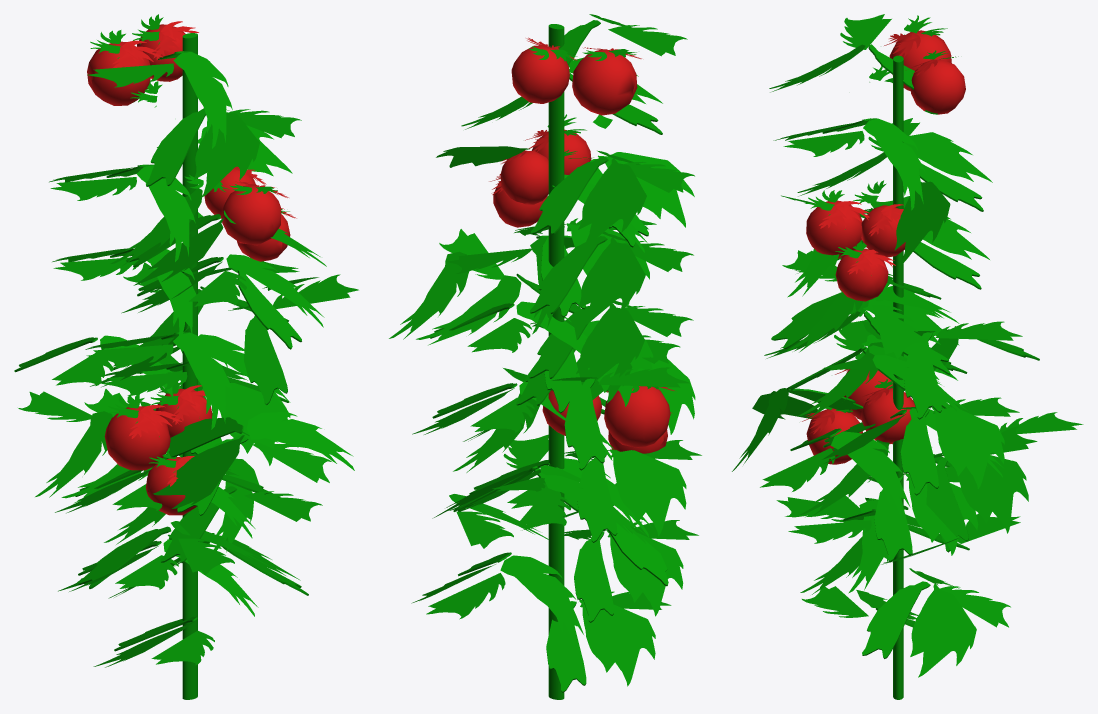
Rendered from tomato_plant.fbx.
The picture shows the model from 3 angles, left to right: view 1: azimuth 30°, elevation 25°; view 2: azimuth 150°, elevation 25°; view 3: azimuth 270°, elevation 25°; orthographic projection. The views are drawn at different scales.
Parts seen in each view (by area): view 1: tomato_plant_leaves, tomato_plant_fruit, tomato_plant_stem; view 2: tomato_plant_leaves, tomato_plant_fruit, tomato_plant_stem; view 3: tomato_plant_leaves, tomato_plant_fruit, tomato_plant_stem.
Part boxes in pixels (<box>): tomato_plant_leaves: <box>14,14,358,667</box>; tomato_plant_fruit: <box>87,21,296,515</box>; tomato_plant_stem: <box>182,33,197,699</box>; tomato_plant_leaves: <box>389,14,701,692</box>; tomato_plant_fruit: <box>489,37,674,453</box>; tomato_plant_stem: <box>548,24,564,699</box>; tomato_plant_leaves: <box>732,14,1083,677</box>; tomato_plant_fruit: <box>802,30,965,464</box>; tomato_plant_stem: <box>893,55,903,699</box>.
Bounding box in the file's own units: 1.72 × 4.1 × 2.05.
